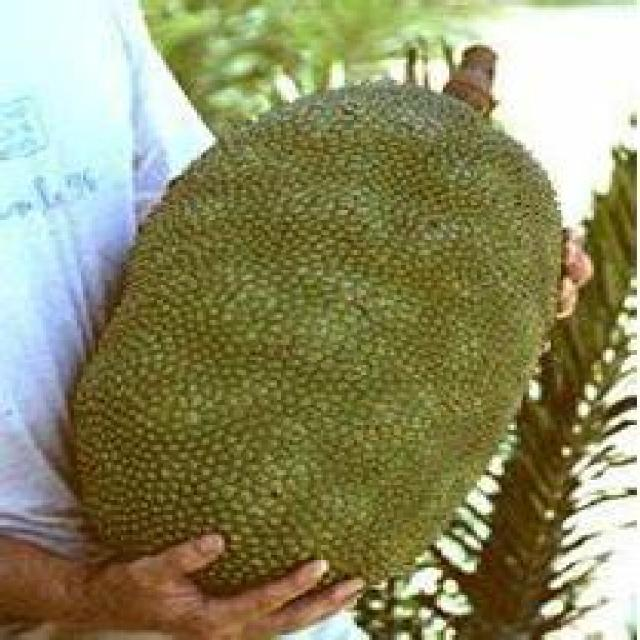fruit: (105, 192, 526, 560)
